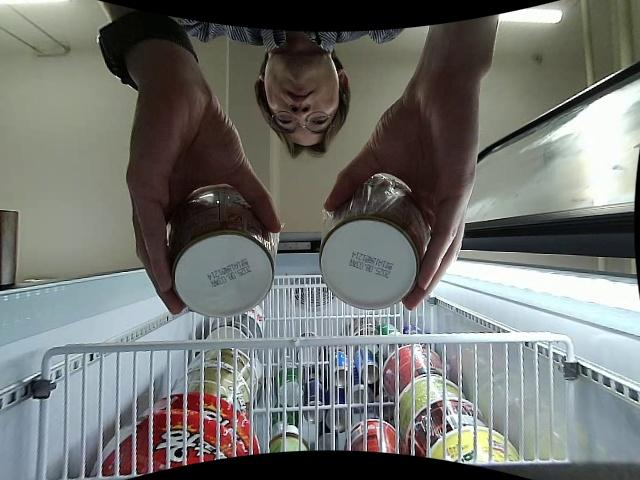00_hand: (125, 83, 281, 315), (322, 86, 479, 315)
04_chapagetti_S: (317, 175, 428, 310), (165, 189, 280, 315)
